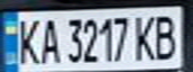1: (96, 14, 115, 63)
2: (78, 14, 100, 63)
3: (63, 13, 84, 64)
7: (112, 12, 133, 62)
A: (36, 15, 60, 65)
B: (151, 11, 184, 61)
K: (12, 15, 42, 65), (133, 11, 160, 62)
